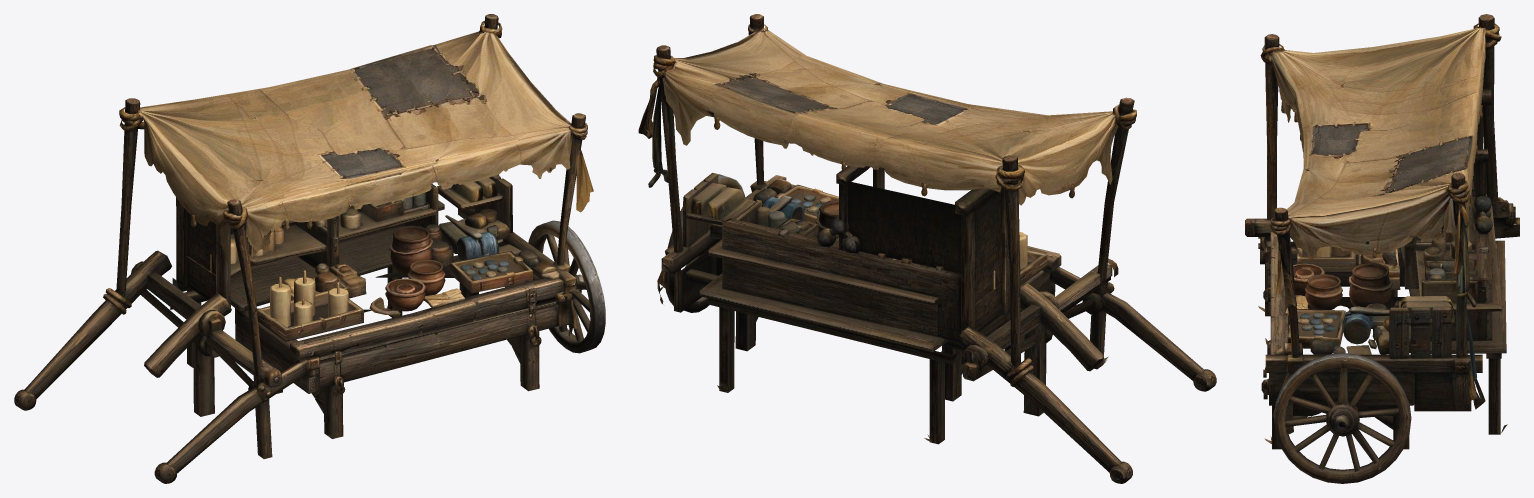
The model's file is act1-a15-5-grave-goods-stall.glb.
The picture shows the model from 3 angles, left to right: view 1: azimuth 30°, elevation 25°; view 2: azimuth 150°, elevation 25°; view 3: azimuth 270°, elevation 25°; orthographic projection. The views are drawn at different scales.
Visible parts, largest first — view 1: act1-a15-5-grave-goods-stall; view 2: act1-a15-5-grave-goods-stall; view 3: act1-a15-5-grave-goods-stall.
Part boxes in pixels (left/top/right/bottom): act1-a15-5-grave-goods-stall: left=14, top=14, right=605, bottom=483; act1-a15-5-grave-goods-stall: left=638, top=14, right=1216, bottom=483; act1-a15-5-grave-goods-stall: left=1245, top=14, right=1519, bottom=483.
Bounding box in the file's own units: 4.01 × 2.3 × 1.93.
Materials: 1 (1 with a texture image).
